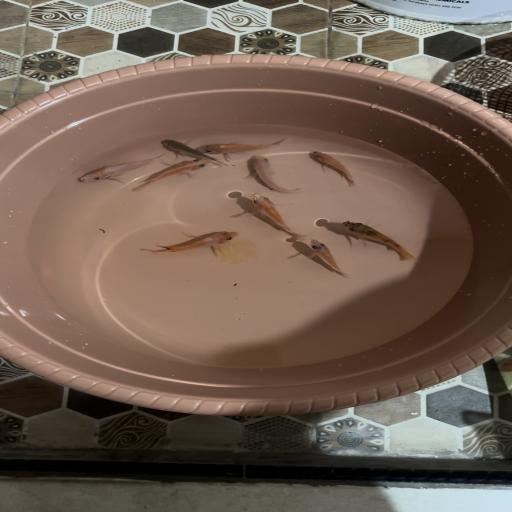nila: (332, 217, 420, 261), (77, 144, 158, 187), (136, 228, 244, 260), (238, 195, 307, 239), (240, 154, 309, 194), (134, 158, 210, 194), (302, 238, 361, 281), (300, 150, 364, 188), (198, 134, 289, 160), (156, 138, 226, 170)
